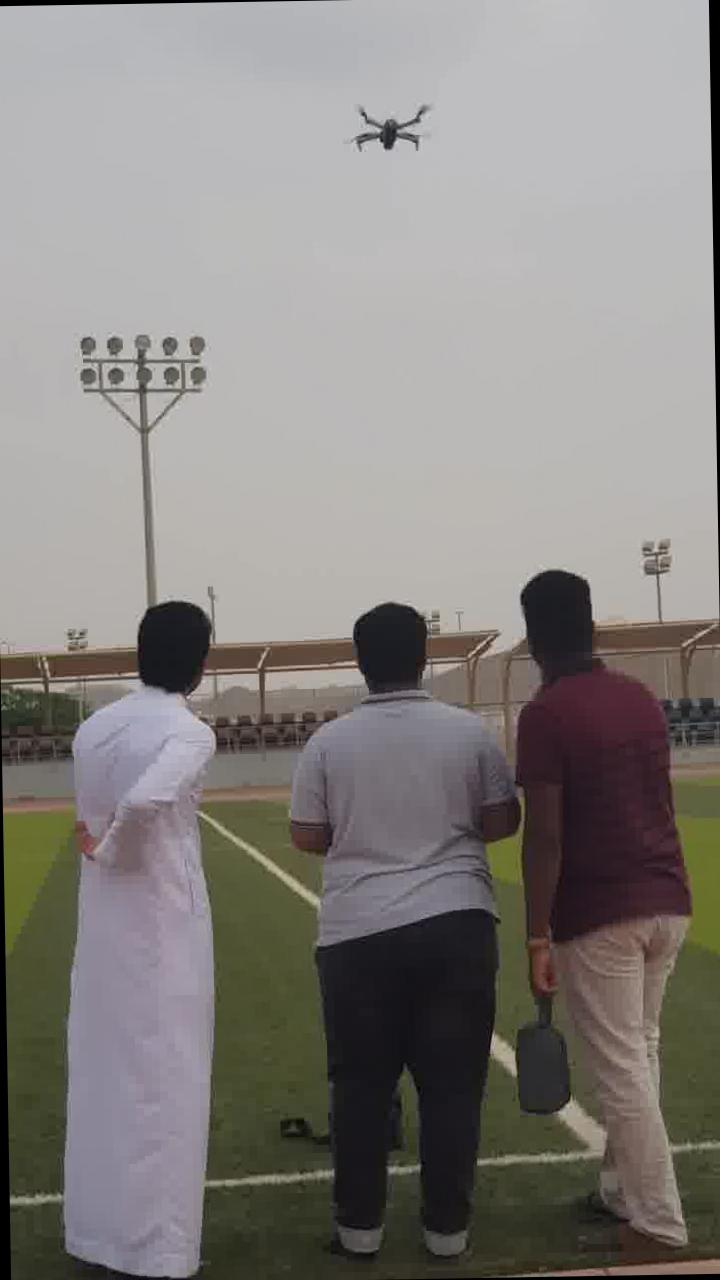drone: (336, 96, 441, 162)
